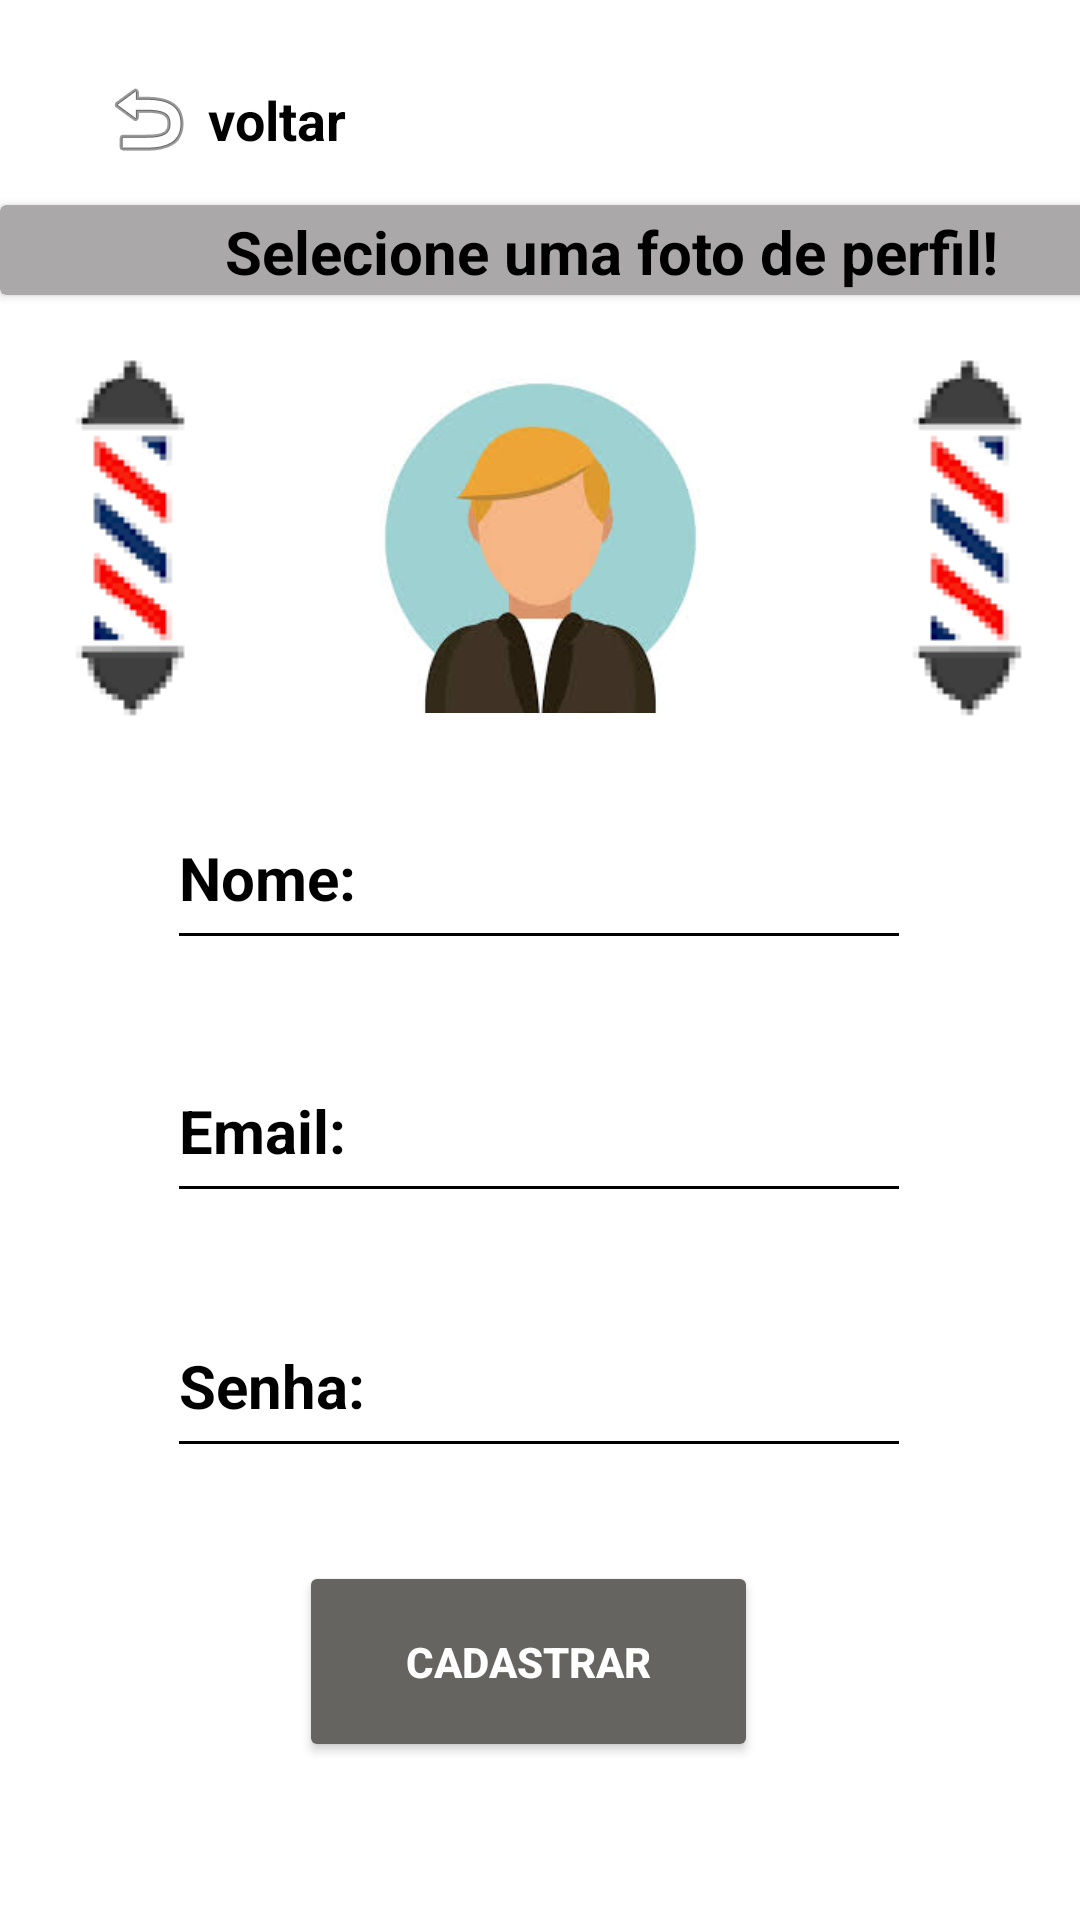

Icons on this 1080x1920 Android screen, each with its box as BBox(x1, y1, x2, y2):
barbearia: BBox(81, 360, 185, 716), BBox(918, 360, 1022, 716)
images homem: BBox(385, 383, 696, 713)
revert: BBox(115, 88, 232, 151)
